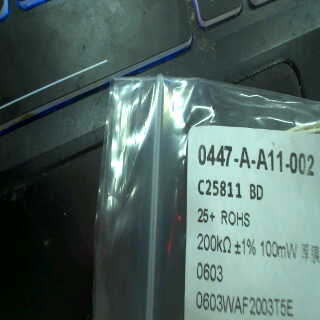200kR: (192, 230, 235, 257)
